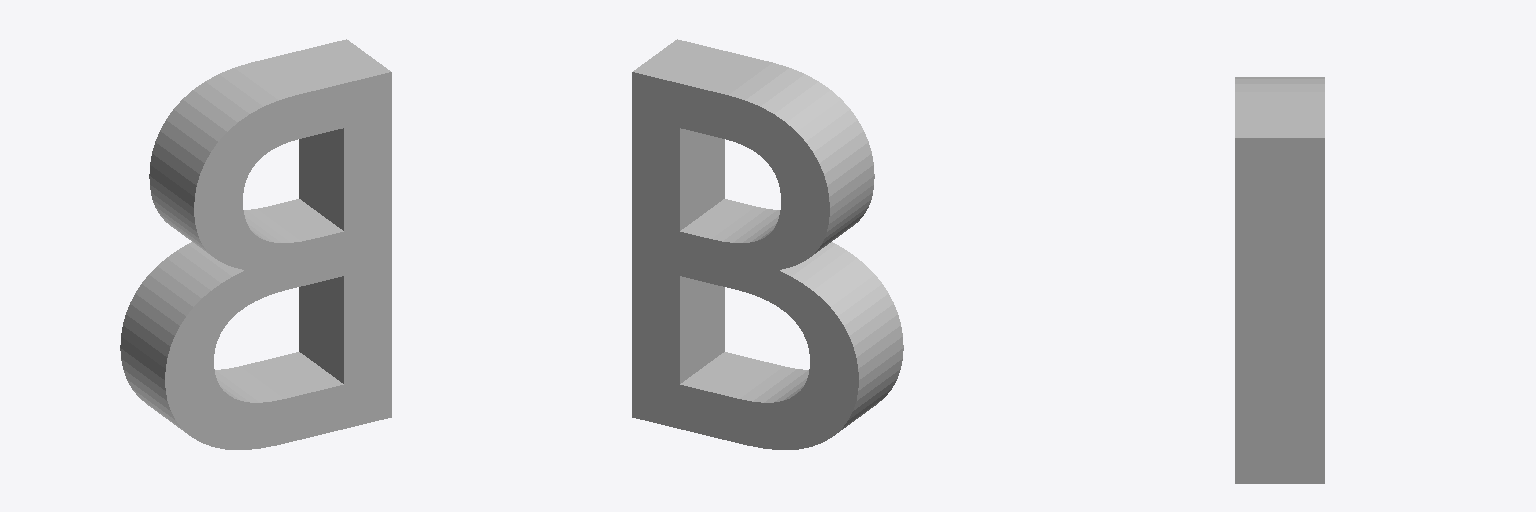
3 renders of one model, left to right at view 1: azimuth 30°, elevation 25°; view 2: azimuth 150°, elevation 25°; view 3: azimuth 270°, elevation 25°, orthographic.
Visible parts, largest first — view 1: テキスト; view 2: テキスト; view 3: テキスト.
Boxes of the visible parts, <box> form: テキスト: <box>120,39,391,449</box>; テキスト: <box>632,39,903,449</box>; テキスト: <box>1235,77,1324,483</box>.
Size of the model in its own units: 0.468 by 0.682 by 0.16.